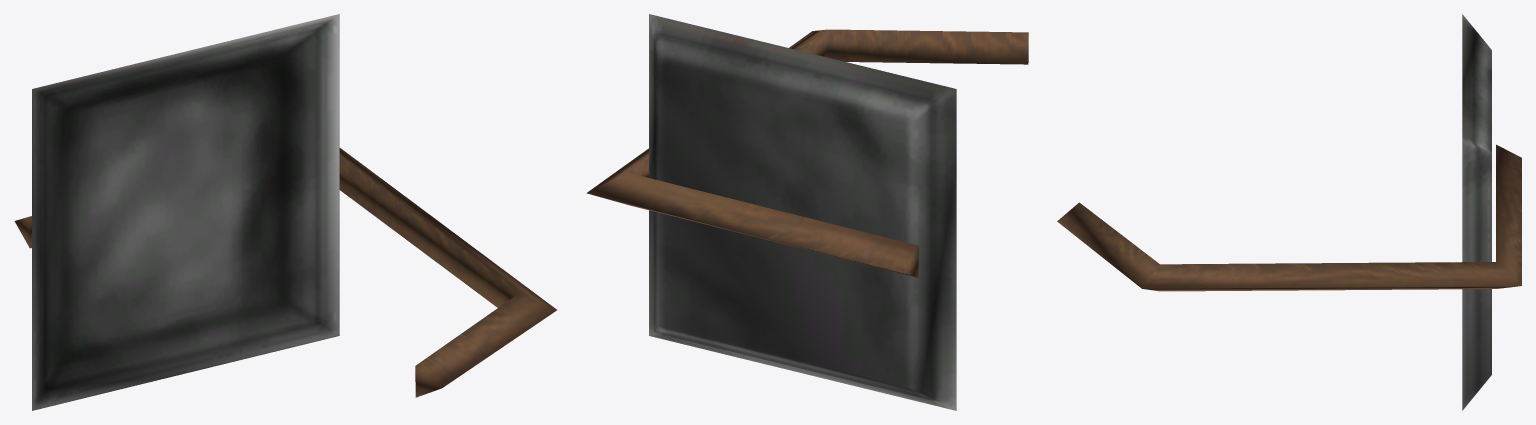
File: INST_SWORDLIGHT_CONV12.fbx
The picture shows the model from 3 angles, left to right: view 1: azimuth 30°, elevation 25°; view 2: azimuth 150°, elevation 25°; view 3: azimuth 270°, elevation 25°; orthographic projection. The views are drawn at different scales.
Visible parts, largest first — view 1: INST_SWORDLIGHT_CONV12; view 2: INST_SWORDLIGHT_CONV12; view 3: INST_SWORDLIGHT_CONV12.
Boxes of the visible parts, <box> form: INST_SWORDLIGHT_CONV12: <box>14,14,556,410</box>; INST_SWORDLIGHT_CONV12: <box>586,14,1028,410</box>; INST_SWORDLIGHT_CONV12: <box>1057,14,1521,410</box>.
Size of the model in its own units: 16334 by 15001 by 23348.
1 material, 1 textured.
